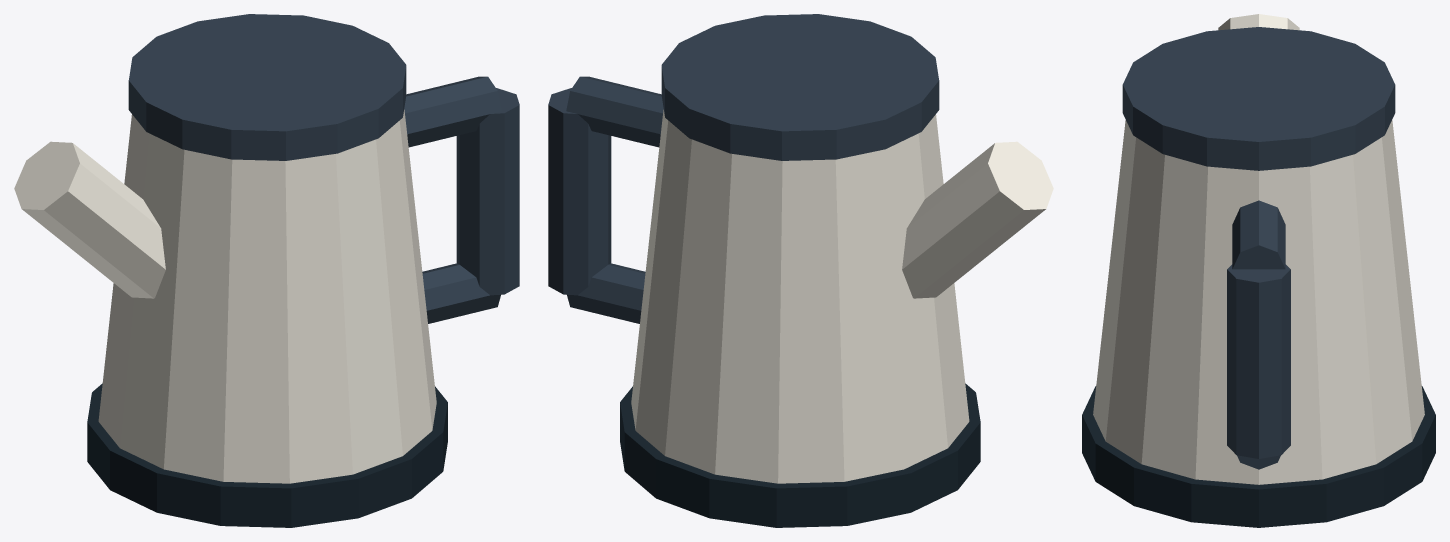
File: kettle.glb
3 views of the same model, side by side, from view 1: azimuth 30°, elevation 25°; view 2: azimuth 150°, elevation 25°; view 3: azimuth 270°, elevation 25° (orthographic). The views are drawn at different scales.
Visible parts, largest first — view 1: kettle__ceramic, kettle__metal, kettle__black; view 2: kettle__ceramic, kettle__metal, kettle__black; view 3: kettle__ceramic, kettle__metal, kettle__black.
Boxes of the visible parts, x1,y1,x2,y2 form: kettle__ceramic: (14,109,436,483); kettle__metal: (128,14,519,323); kettle__black: (87,383,447,527); kettle__ceramic: (631,109,1053,483); kettle__metal: (548,14,939,323); kettle__black: (620,383,980,527); kettle__ceramic: (1093,14,1424,484); kettle__metal: (1122,27,1395,469); kettle__black: (1082,386,1435,527).
Size of the model in its own units: 0.3143 by 0.23 by 0.2.
